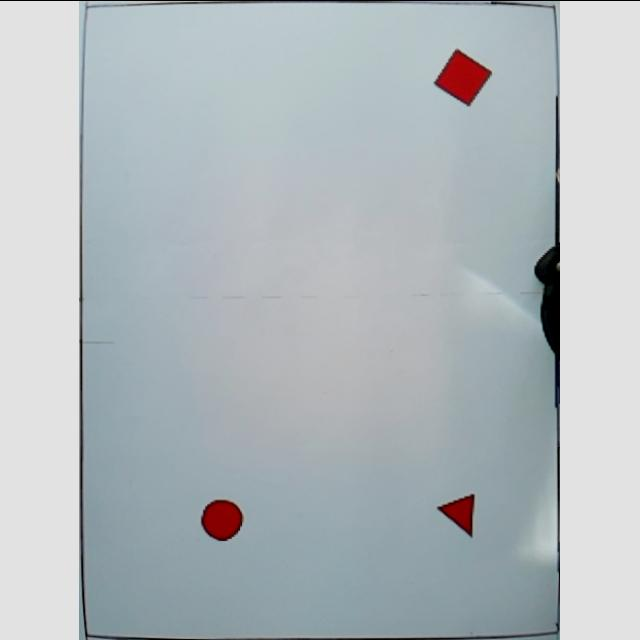redCircle: (199, 498, 247, 542)
redSquare: (434, 47, 496, 107)
redTriangle: (437, 491, 479, 537)
